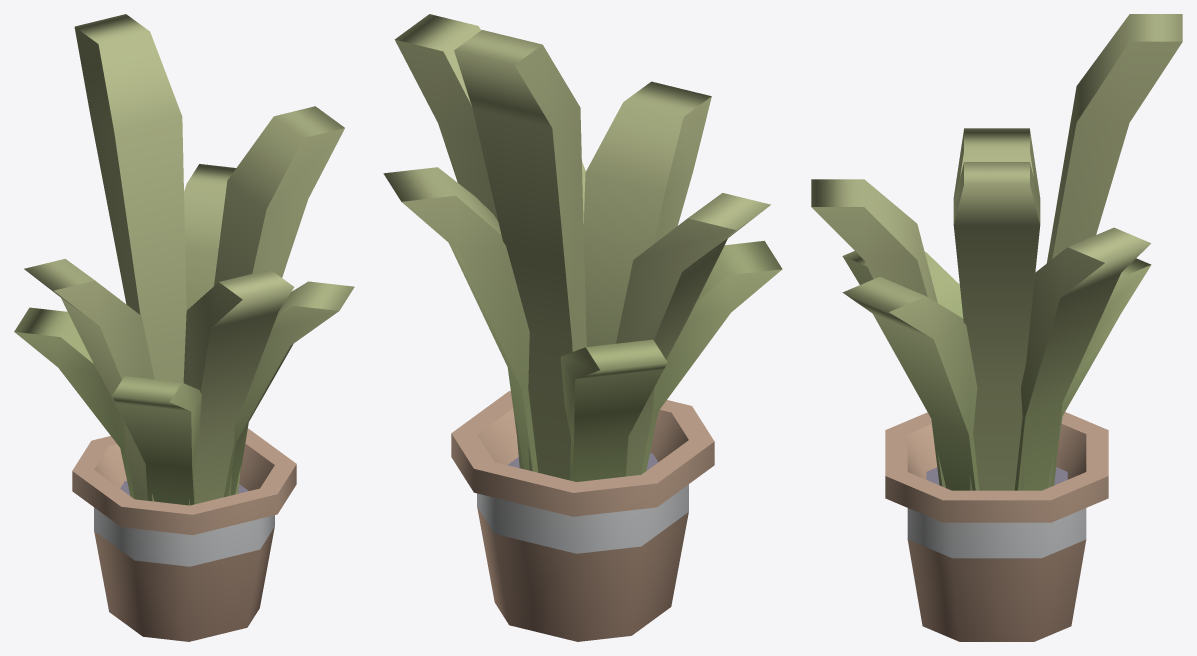
File: plant-small-wild.glb
3 renders of one model, left to right at view 1: azimuth 30°, elevation 25°; view 2: azimuth 150°, elevation 25°; view 3: azimuth 270°, elevation 25°, orthographic. The views are drawn at different scales.
Visible parts, largest first — view 1: plant-small-wild; view 2: plant-small-wild; view 3: plant-small-wild.
Boxes of the visible parts, x1,y1,x2,y2 form: plant-small-wild: (14, 14, 354, 641); plant-small-wild: (383, 14, 782, 641); plant-small-wild: (811, 14, 1182, 641).
Size of the model in its own units: 0.3742 by 0.6475 by 0.3742.
